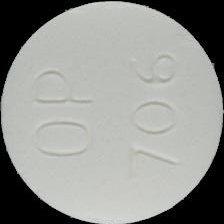51285-523: (0, 0, 224, 224)
